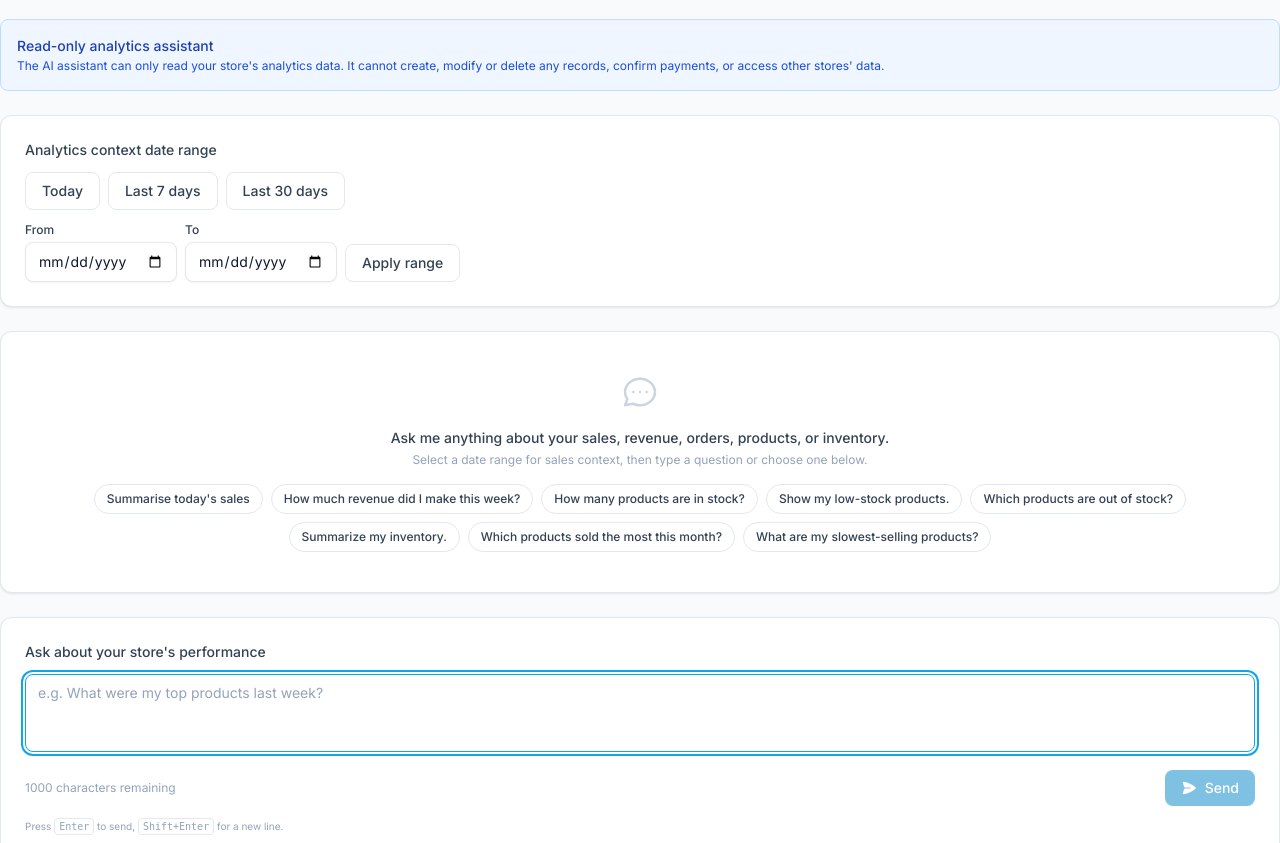
Test case: AssistantPage › renders inventory metrics summary card when inventory data is returned
In the text box labelled "Ask about your store's performance": (640, 713) x1=25 y1=674 x2=1255 y2=752, type "How many products?"
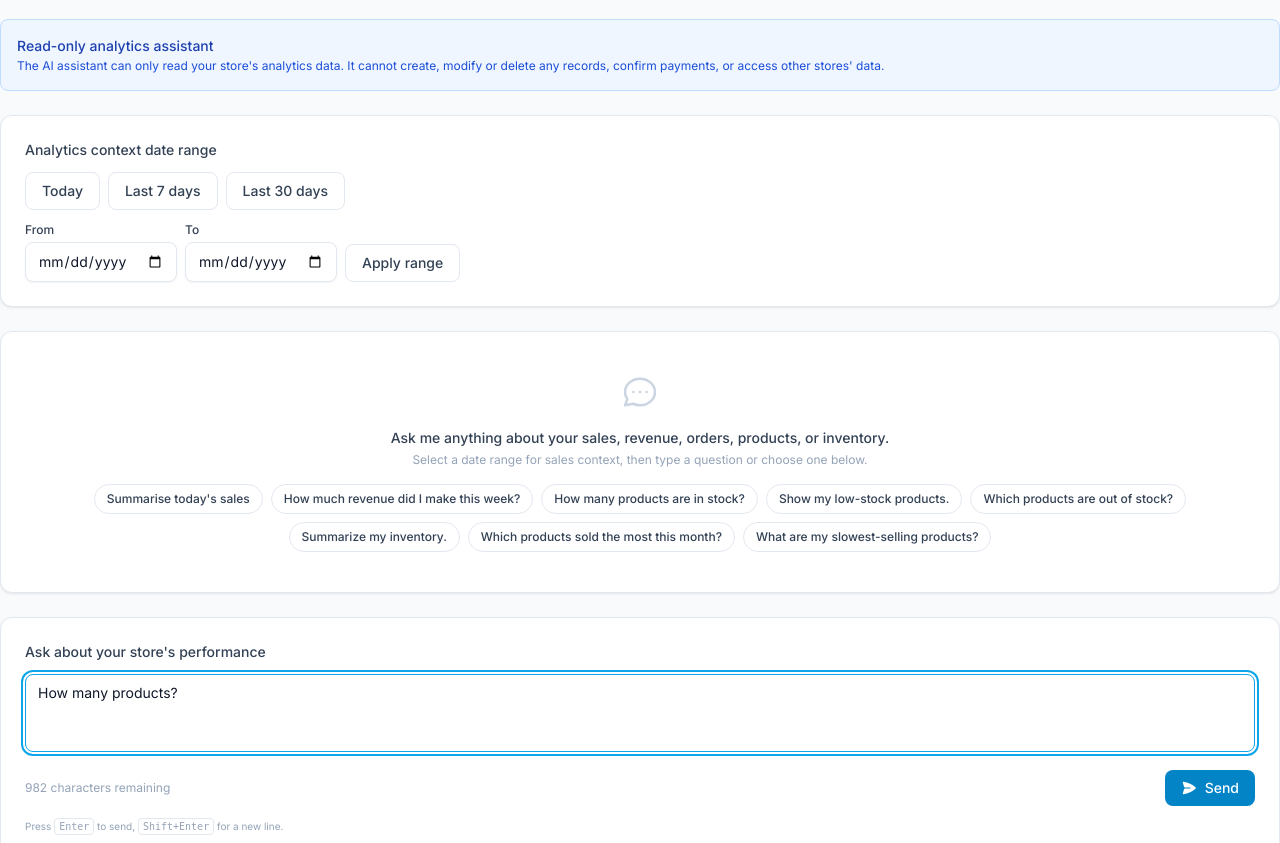
Click the button with aria-label "send message": (1210, 788) x1=1165 y1=770 x2=1255 y2=806
(page scrolled)
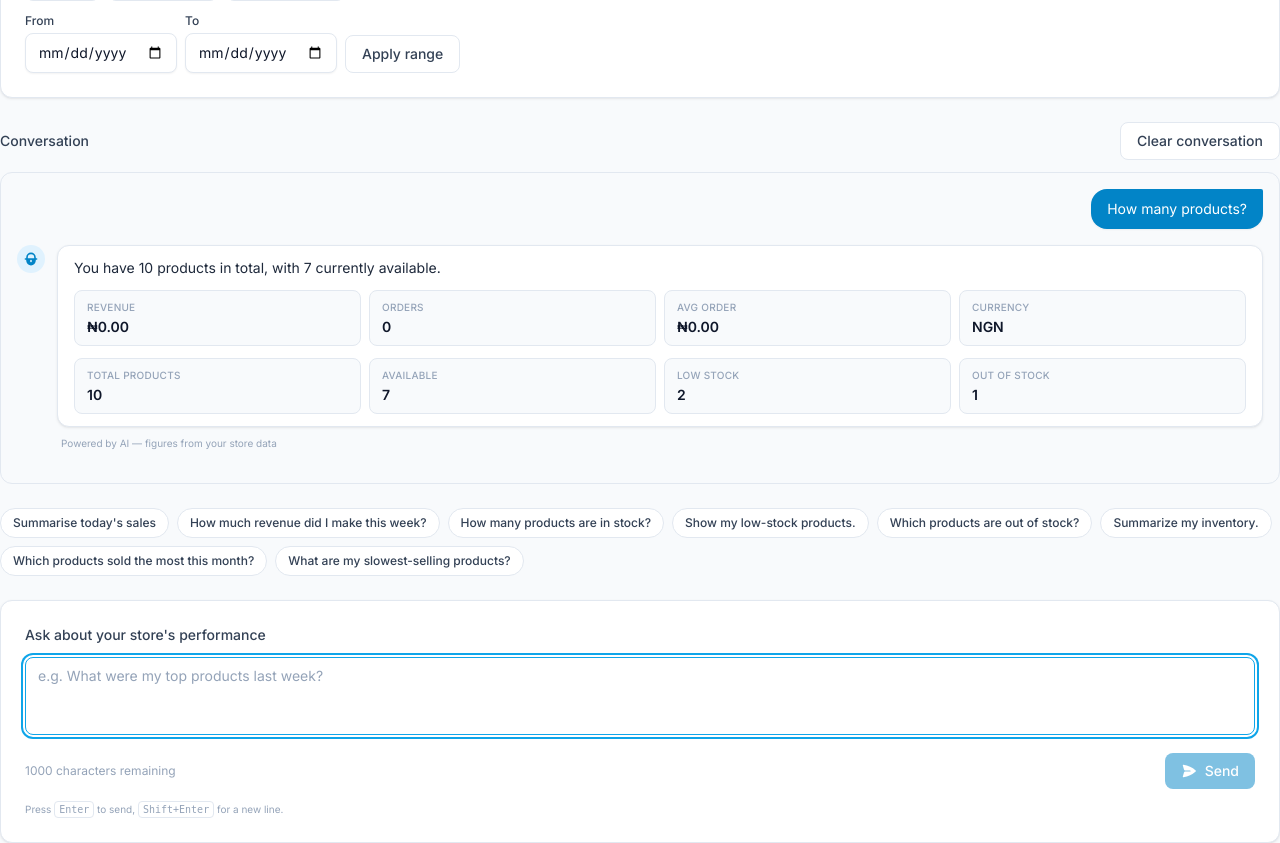
expect the element named "Assistant reply" shows "You have 10 products in total": met, box x1=74 y1=259 x2=441 y2=276
expect the element named "Inventory metrics summary" is shown: met, box x1=74 y1=358 x2=1246 y2=414
expect the text "10" is shown: met, box x1=87 y1=386 x2=102 y2=403
